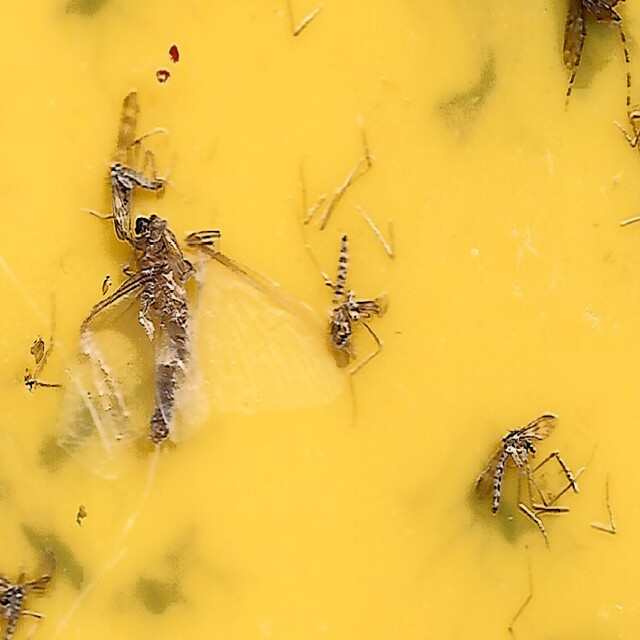Ephemeroptera: (64, 214, 349, 451)
Nematocera: (473, 412, 576, 548), (108, 92, 169, 245), (328, 233, 389, 361)
